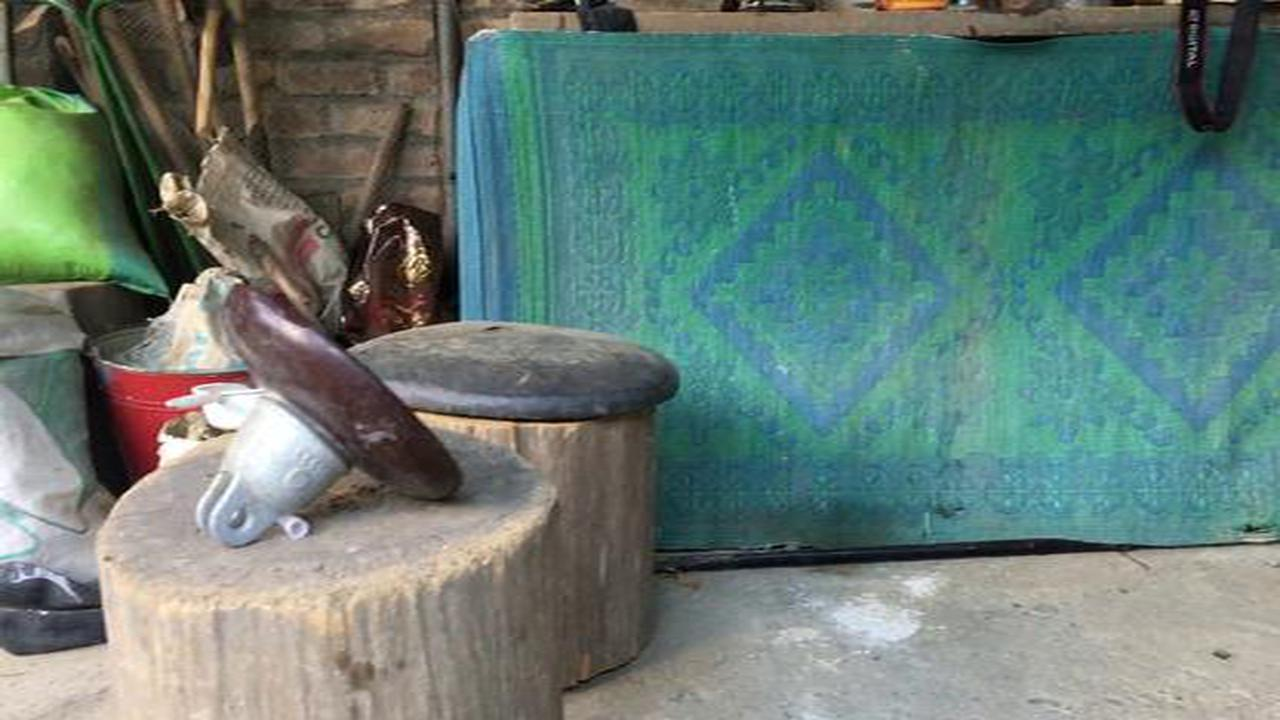insulator_disc: (189, 277, 474, 556)
